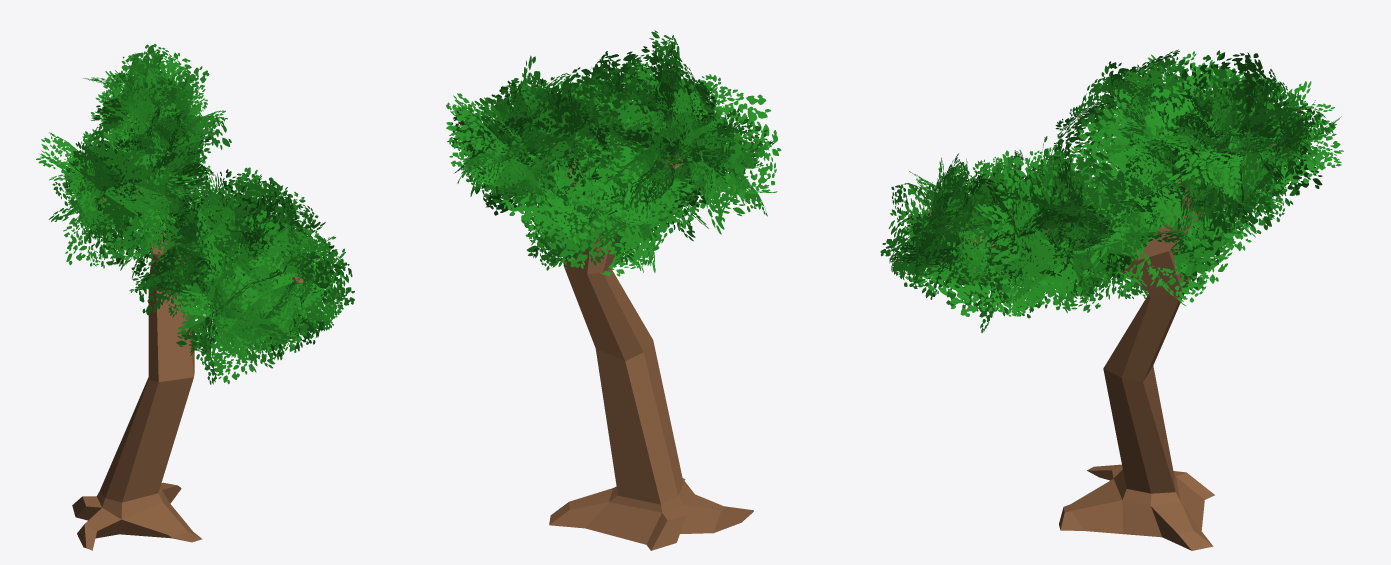
File: mesh_tree3.fbx
3 renders of one model, left to right at view 1: azimuth 30°, elevation 25°; view 2: azimuth 150°, elevation 25°; view 3: azimuth 270°, elevation 25°, orthographic. The views are drawn at different scales.
Visible parts, largest first — view 1: mesh_Tree3; view 2: mesh_Tree3; view 3: mesh_Tree3.
Part boxes in pixels (left/top/right/bottom): mesh_Tree3: left=36, top=44, right=354, bottom=550; mesh_Tree3: left=446, top=30, right=781, bottom=550; mesh_Tree3: left=880, top=49, right=1343, bottom=550.
Bounding box in the file's own units: 7.63 × 12.74 × 12.01.
